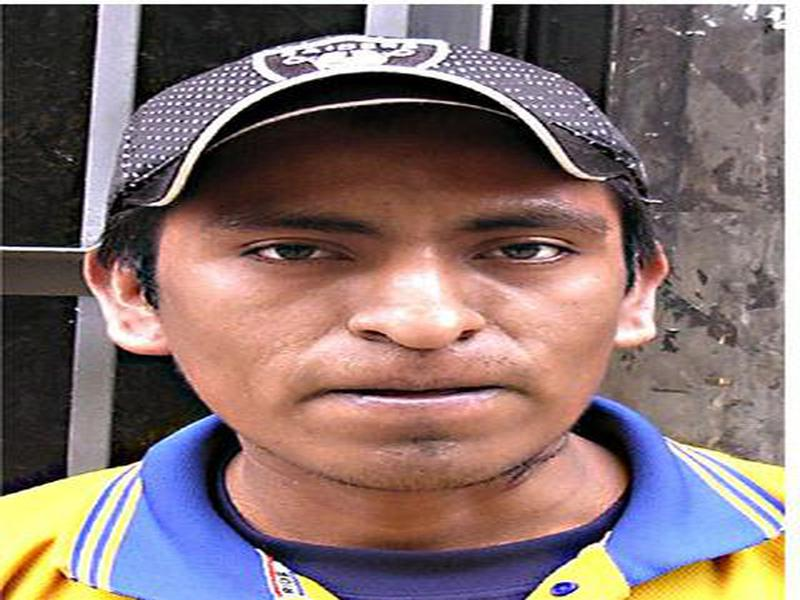without_mask: (155, 178, 631, 502)
